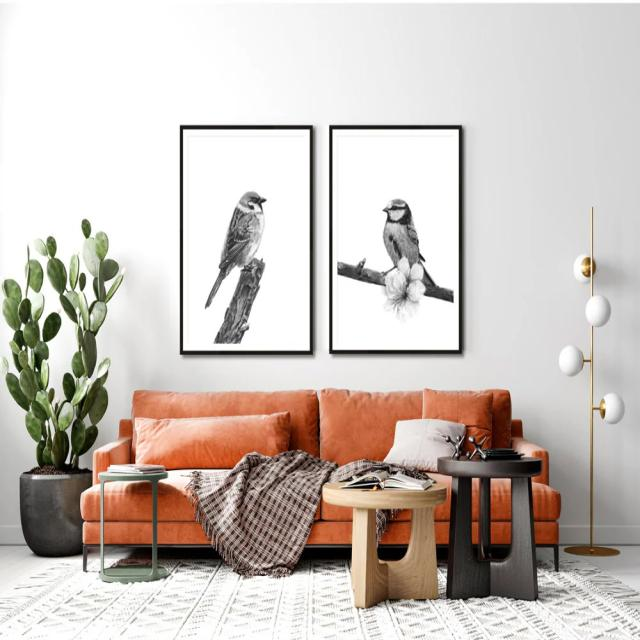painting: (179, 123, 313, 353), (329, 126, 462, 355)
